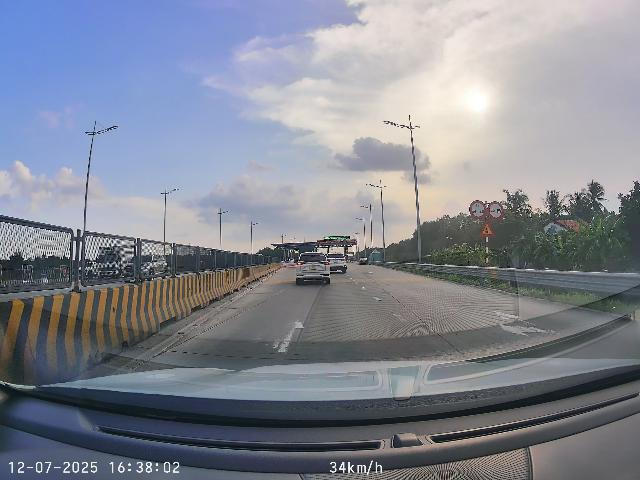125-cam-vuot: (487, 201, 504, 220)
